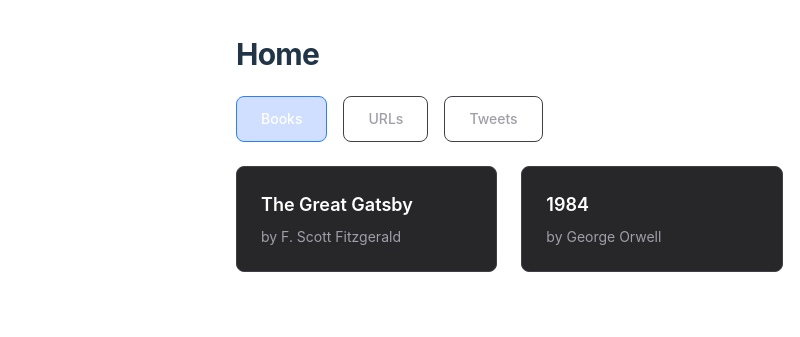
Test: HomePage › Tweets Tab › shows tweet threads when Tweets tab is active
Check: the heading "The Great Gatsby" is shown, box [261,194,413,215]
Click the tab "Tweets".
click(494, 119)  # box [444,96,543,142]
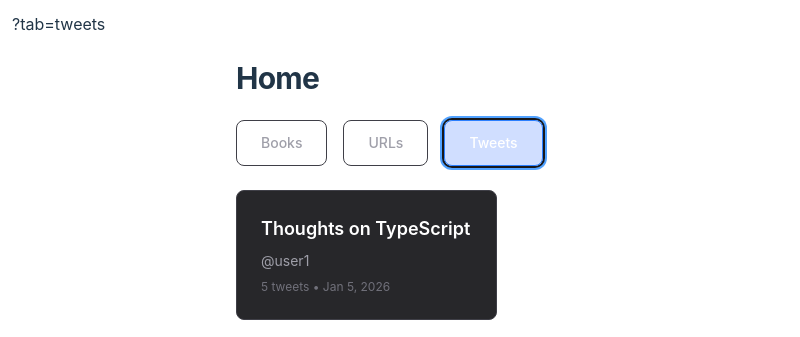
Check: the heading "Thoughts on TypeScript" is shown, box [261,215,472,243]
Check: the text "@user1" is shown, box [261,252,309,269]
Check: the button "The Great Gatsby" is gone
